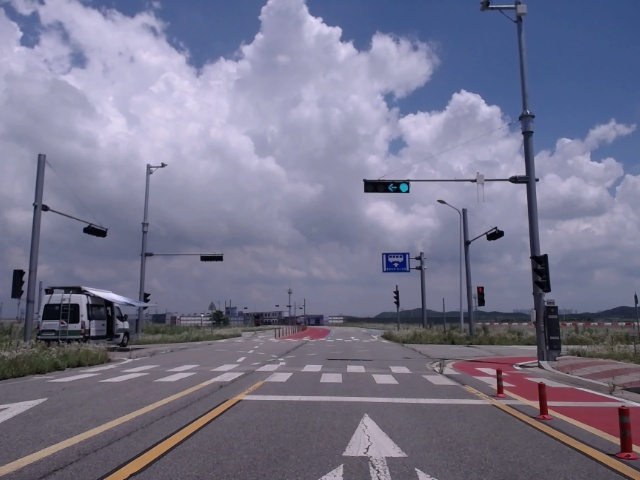all_green_4: (364, 178, 411, 193)
